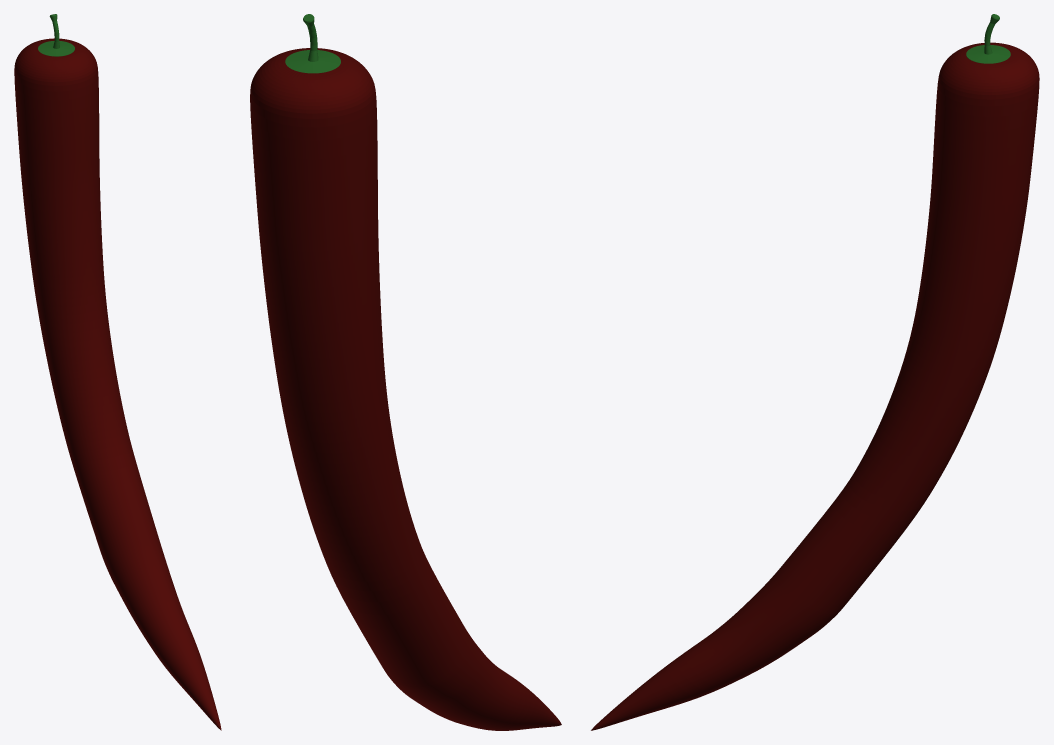
Rendered from Pepper.fbx.
3 views of the same model, side by side, from view 1: azimuth 30°, elevation 25°; view 2: azimuth 150°, elevation 25°; view 3: azimuth 270°, elevation 25° (orthographic). The views are drawn at different scales.
Parts seen in each view (by area): view 1: Cylinder; view 2: Cylinder; view 3: Cylinder.
Boxes of the visible parts, x1=… form: Cylinder: x1=14, y1=14, x2=221, y2=730; Cylinder: x1=250, y1=14, x2=561, y2=730; Cylinder: x1=591, y1=14, x2=1039, y2=730.
Size of the model in its own units: 69.94 by 547 by 311.
